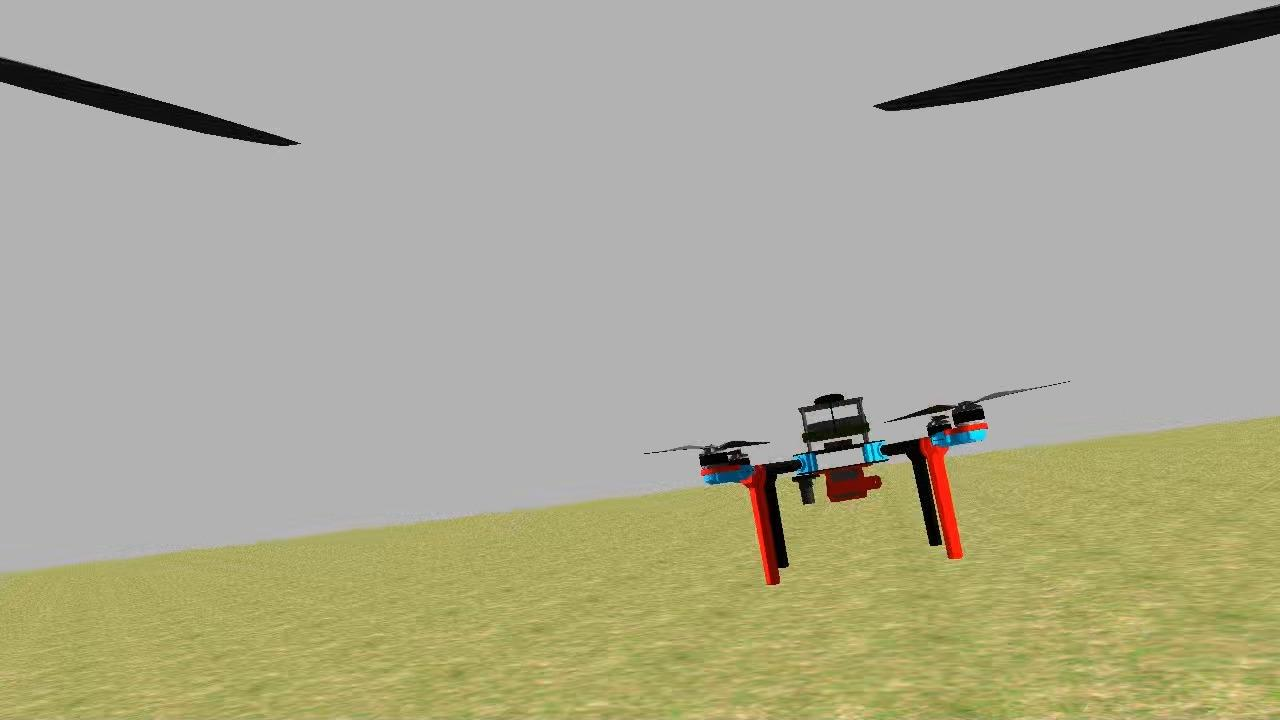UAV: (684, 383, 1000, 595)
